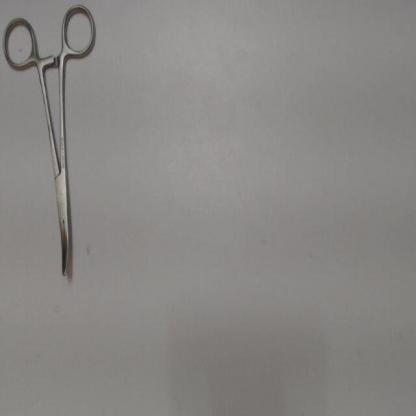Crile Artery Forceps: (2, 1, 102, 282)
